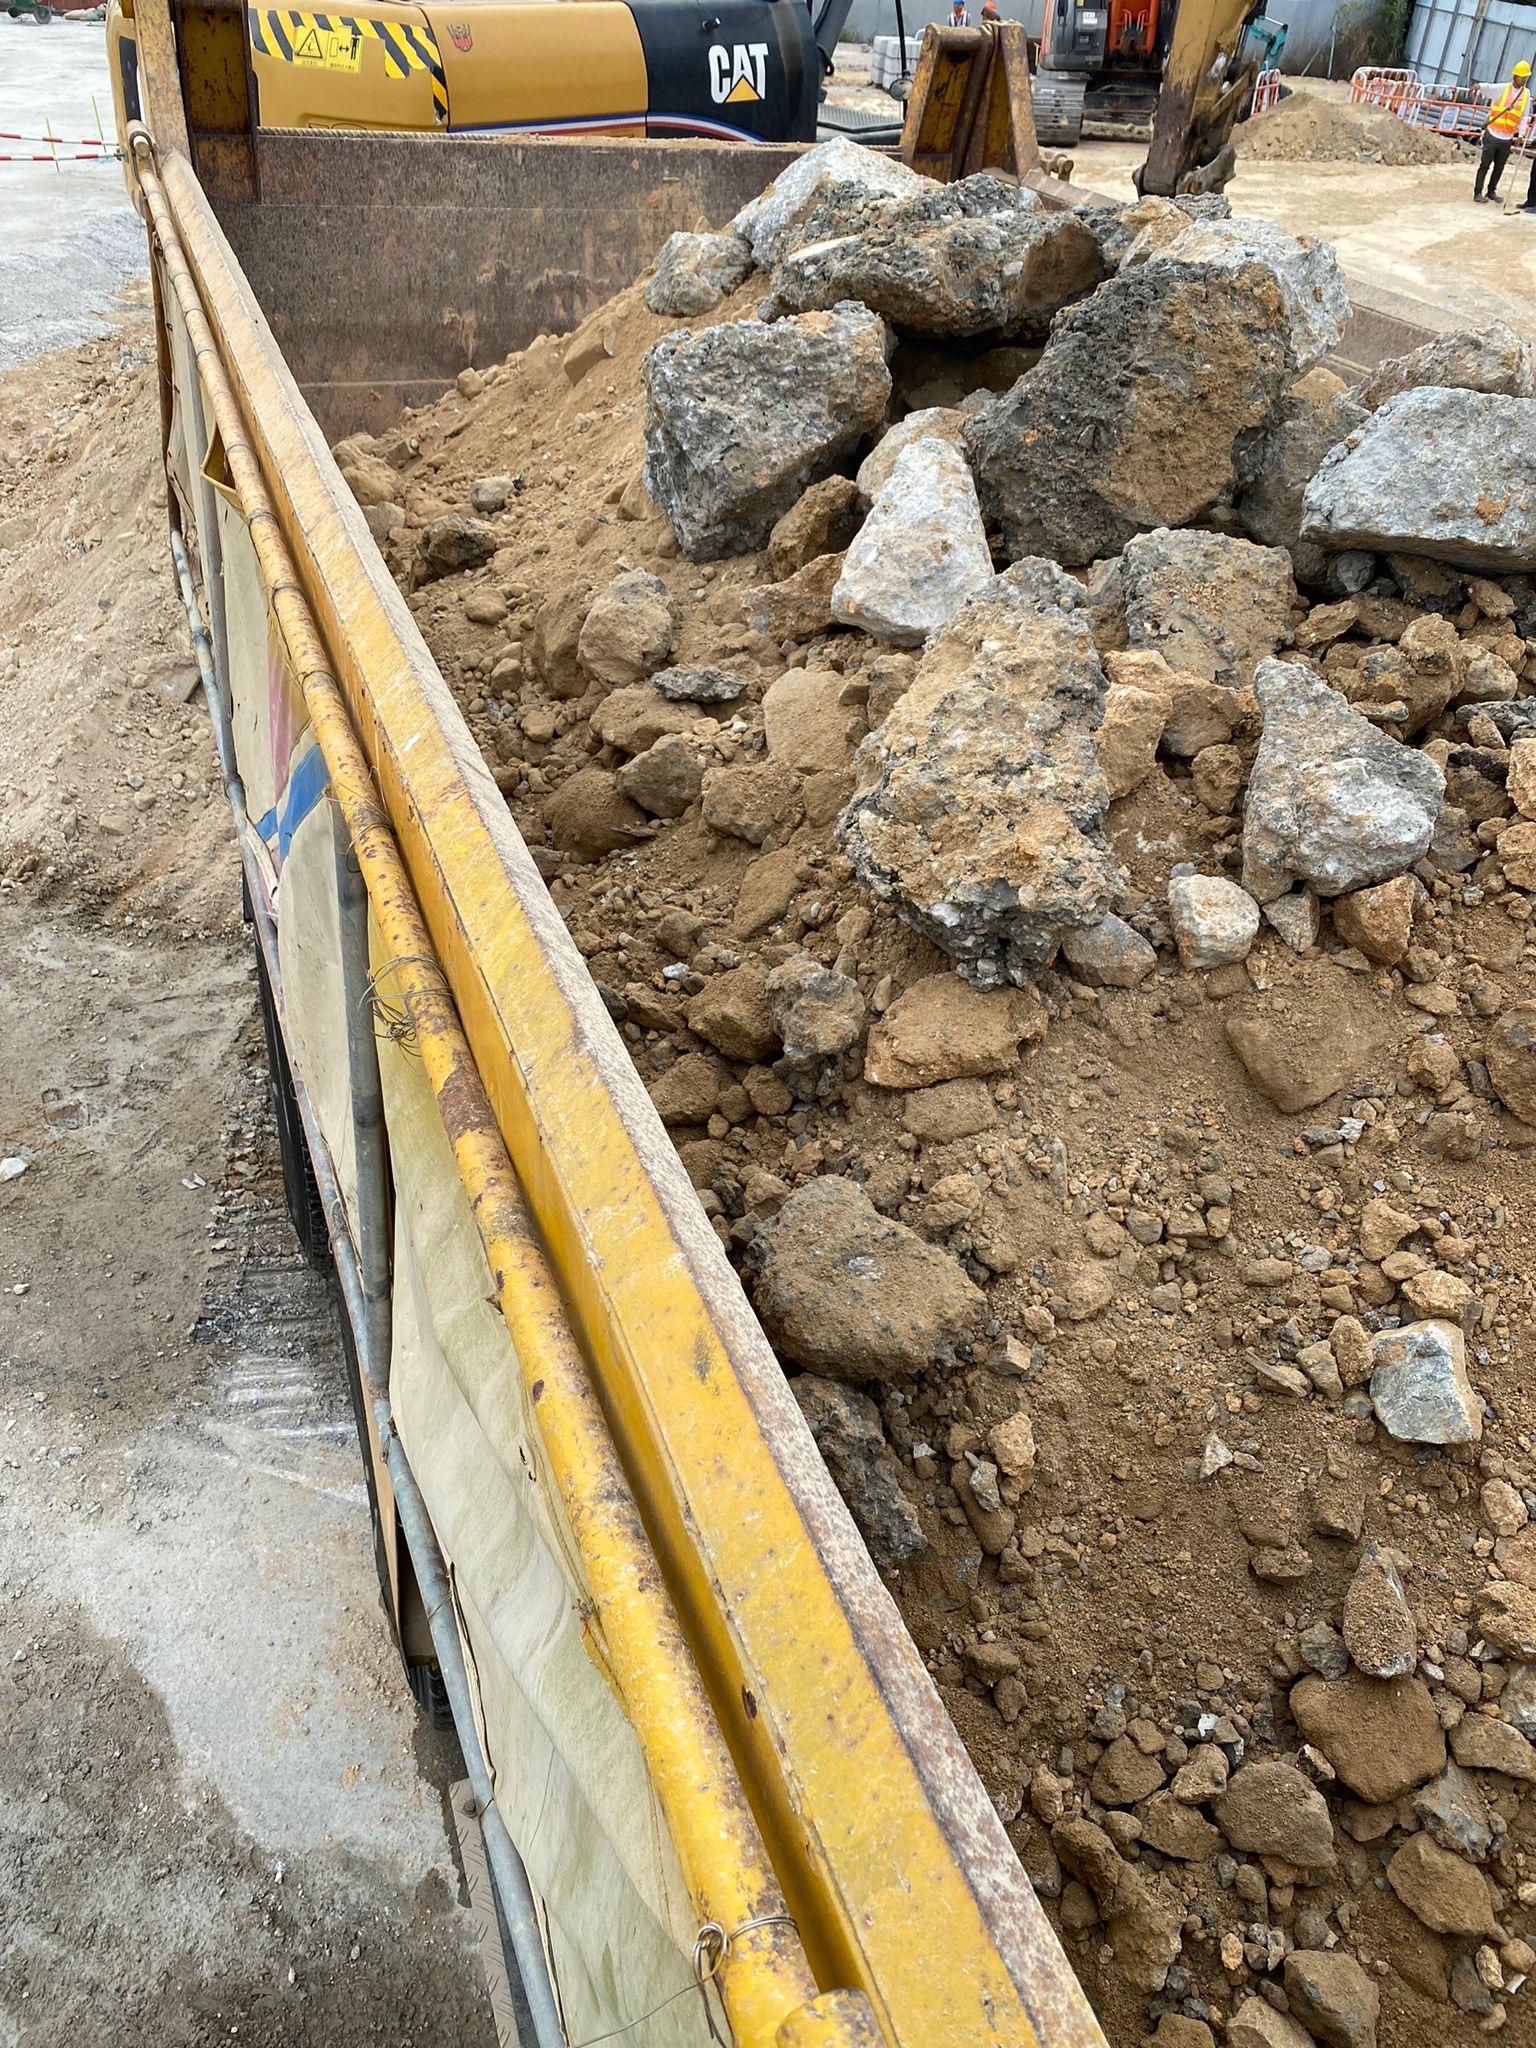stone: (328, 132, 1534, 2043), (958, 211, 1350, 568), (833, 568, 1149, 989), (637, 298, 892, 561), (733, 1171, 992, 1384), (1238, 651, 1446, 901), (1296, 382, 1534, 572), (828, 432, 995, 643), (862, 968, 1049, 1089), (1286, 1667, 1447, 1803), (1367, 1316, 1483, 1447), (1210, 1759, 1336, 1871), (574, 568, 674, 685), (1341, 1548, 1417, 1679)
